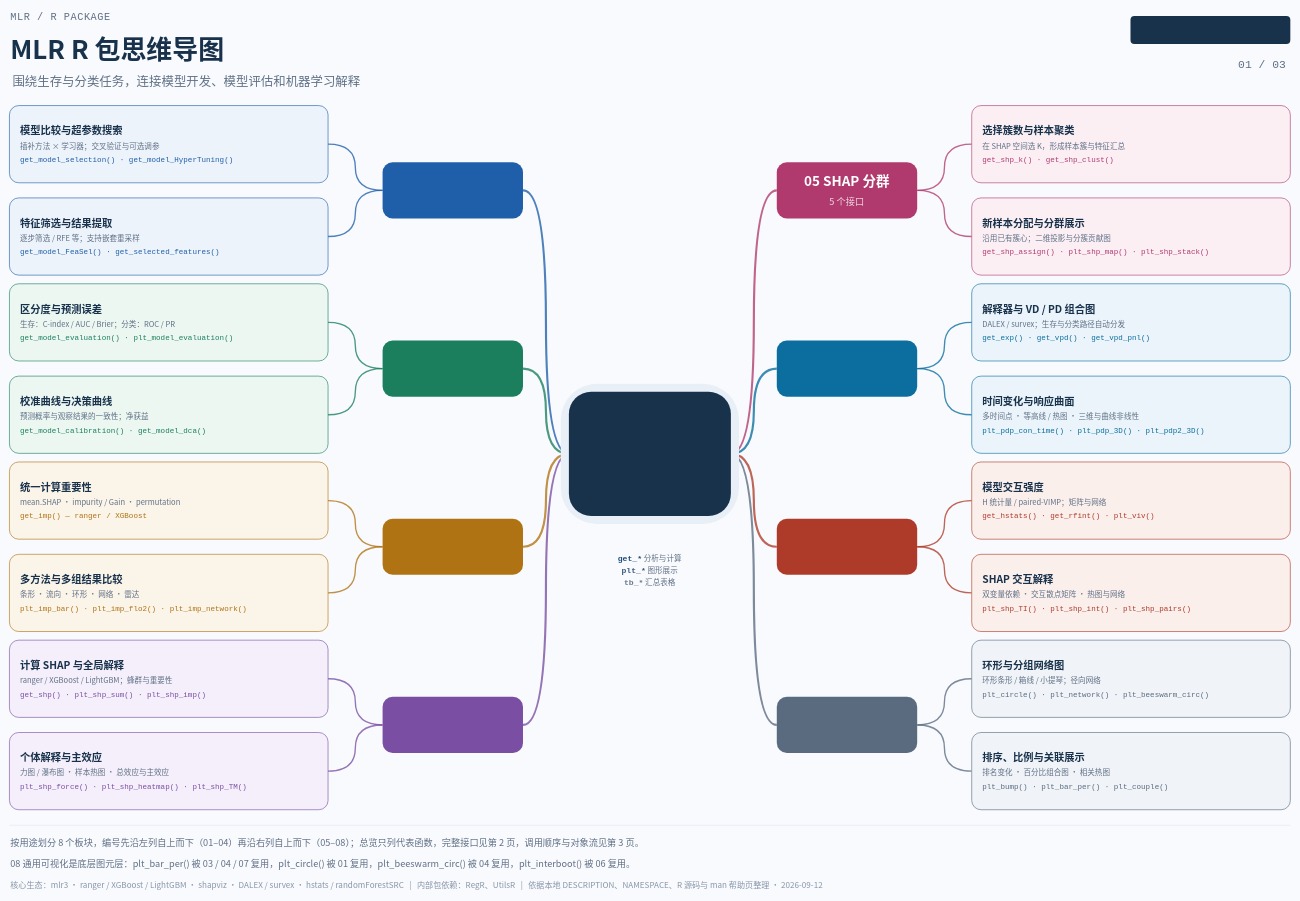
This 1300x901 diagram has some shape labels left out. Each missing label, with the centre of its shape:
"01 模型开发 10 个接口" goes at point (452, 190).
"02 模型评估 7 个接口" goes at point (452, 368).
"03 特征重要性 10 个接口" goes at point (452, 546).
"04 SHAP 解释 9 个接口" goes at point (452, 725).
"06 PDP 与 ICE 13 个接口" goes at point (847, 368).
"07 变量交互 8 个接口" goes at point (847, 546).
"08 通用可视化 7 个接口" goes at point (847, 725).
"MLR 机器学习建模与解释 生存分析 · 分类" goes at point (650, 454).
"v0.1.13 · 69 个导出接口" goes at point (1210, 30).
